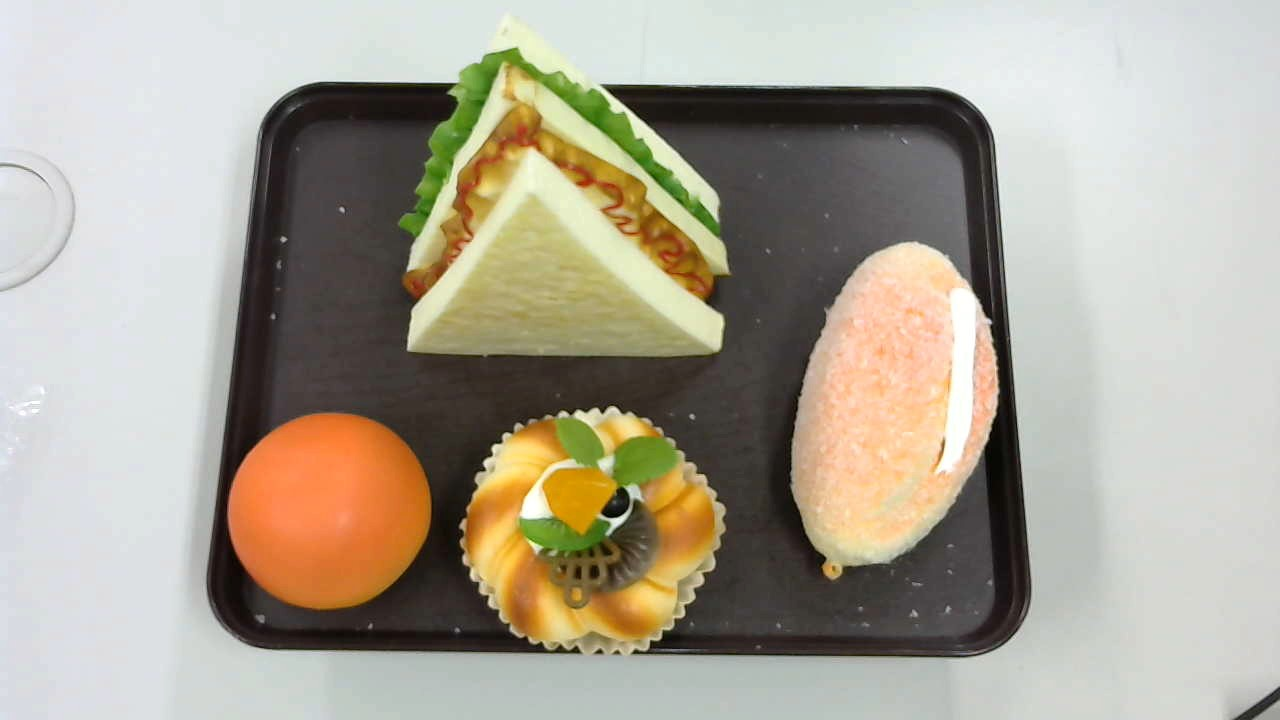bun: (227, 413, 432, 611)
coconut: (790, 241, 998, 576)
fruit tart: (458, 405, 727, 655)
sandwich: (398, 12, 732, 360)
